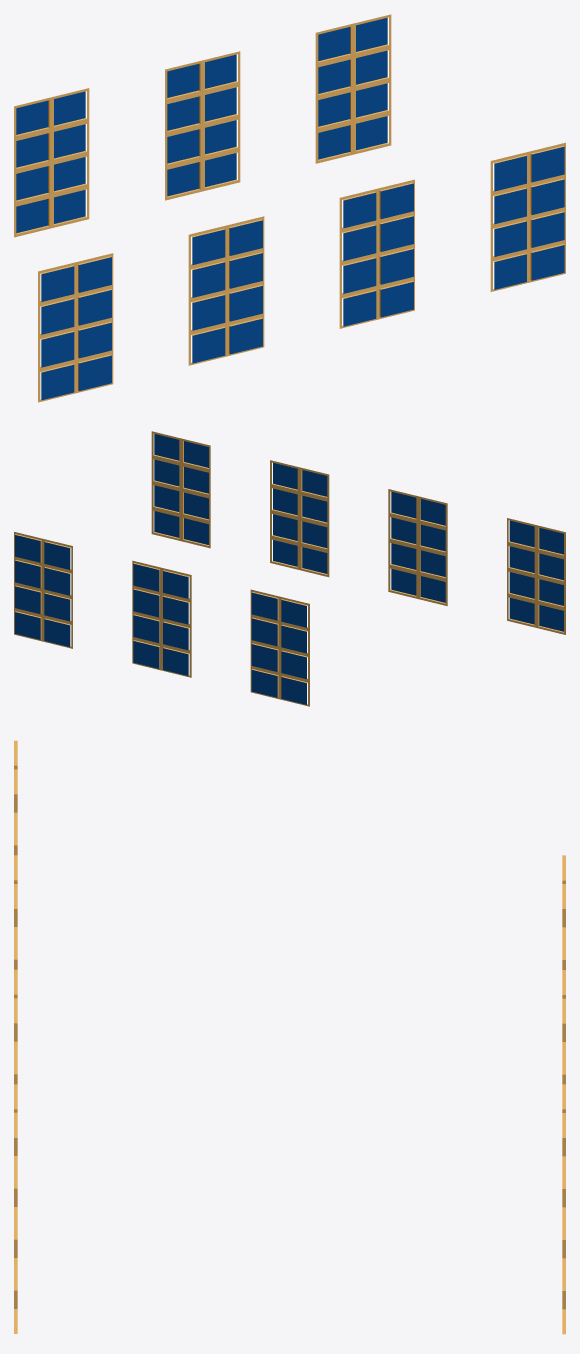
Rendered from Salle_2_Window.fbx.
3 renders of one model, top to bottom at view 1: azimuth 30°, elevation 25°; view 2: azimuth 150°, elevation 25°; view 3: azimuth 270°, elevation 25°, orthographic. The views are drawn at different scales.
Parts seen in each view (by area): view 1: Salle_2_Window; view 2: Salle_2_Window; view 3: Salle_2_Window.
Part boxes in pixels (box(x1,y1,x2,y2)): Salle_2_Window: box(14, 14, 565, 402); Salle_2_Window: box(14, 431, 565, 706); Salle_2_Window: box(14, 740, 565, 1334).
Bounding box in the file's own units: 3502 × 830 × 2038.
Materials: 1 (1 with a texture image).
